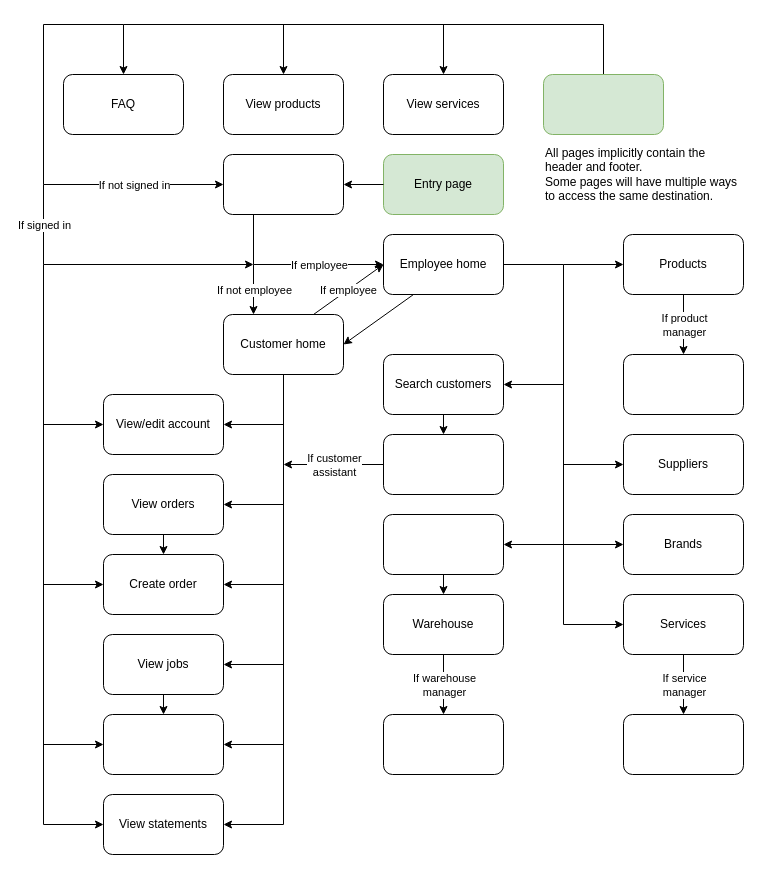
The diagram is 761 pixels wide and 872 high, and some of its shapes have lost their labels. Here are the shapes that lost their labels. From the top down, the box of each, then its label:
(542, 74, 664, 134): Header/footer
(222, 154, 344, 214): Signin/signup page
(622, 354, 744, 414): Create/edit product
(382, 434, 504, 494): View customer
(382, 514, 504, 574): Warehouses
(102, 714, 224, 774): Create job
(382, 714, 504, 774): Create restock order
(622, 714, 744, 774): Create service
